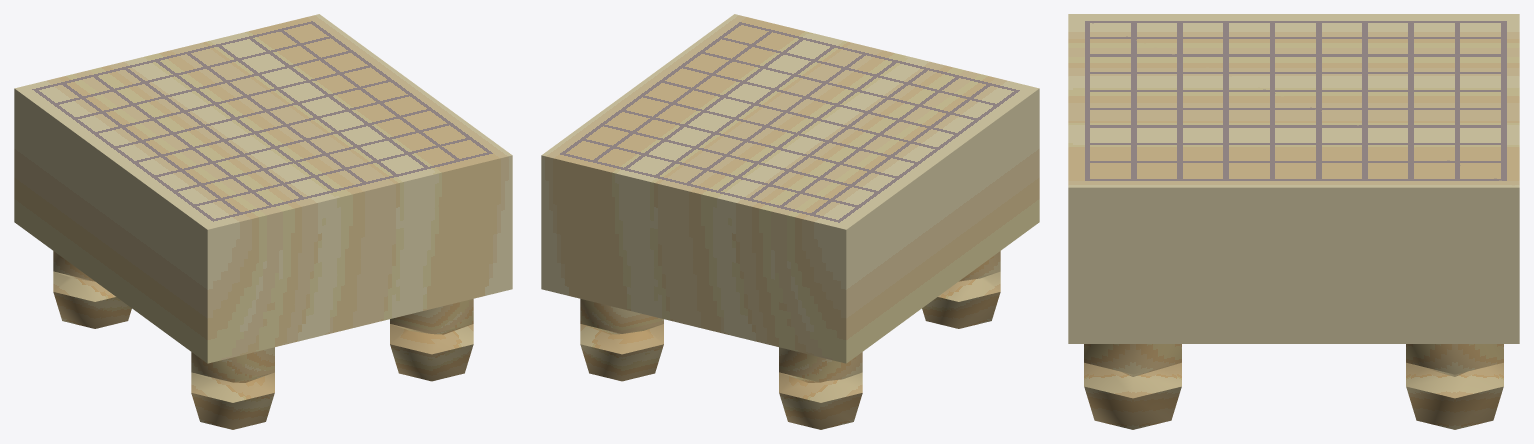
File: 01b4_Shogi_Table.glb
3 views of the same model, side by side, from view 1: azimuth 30°, elevation 25°; view 2: azimuth 150°, elevation 25°; view 3: azimuth 270°, elevation 25° (orthographic). The views are drawn at different scales.
Parts seen in each view (by area): view 1: part_0; view 2: part_0; view 3: part_0.
Boxes of the visible parts, box(x1,y1,x2,y2) form: part_0: box(14, 14, 512, 429); part_0: box(541, 14, 1039, 429); part_0: box(1068, 14, 1519, 429).
Bounding box in the file's own units: 0.3573 × 0.2432 × 0.3918.
Materials: 1 (1 with a texture image).
